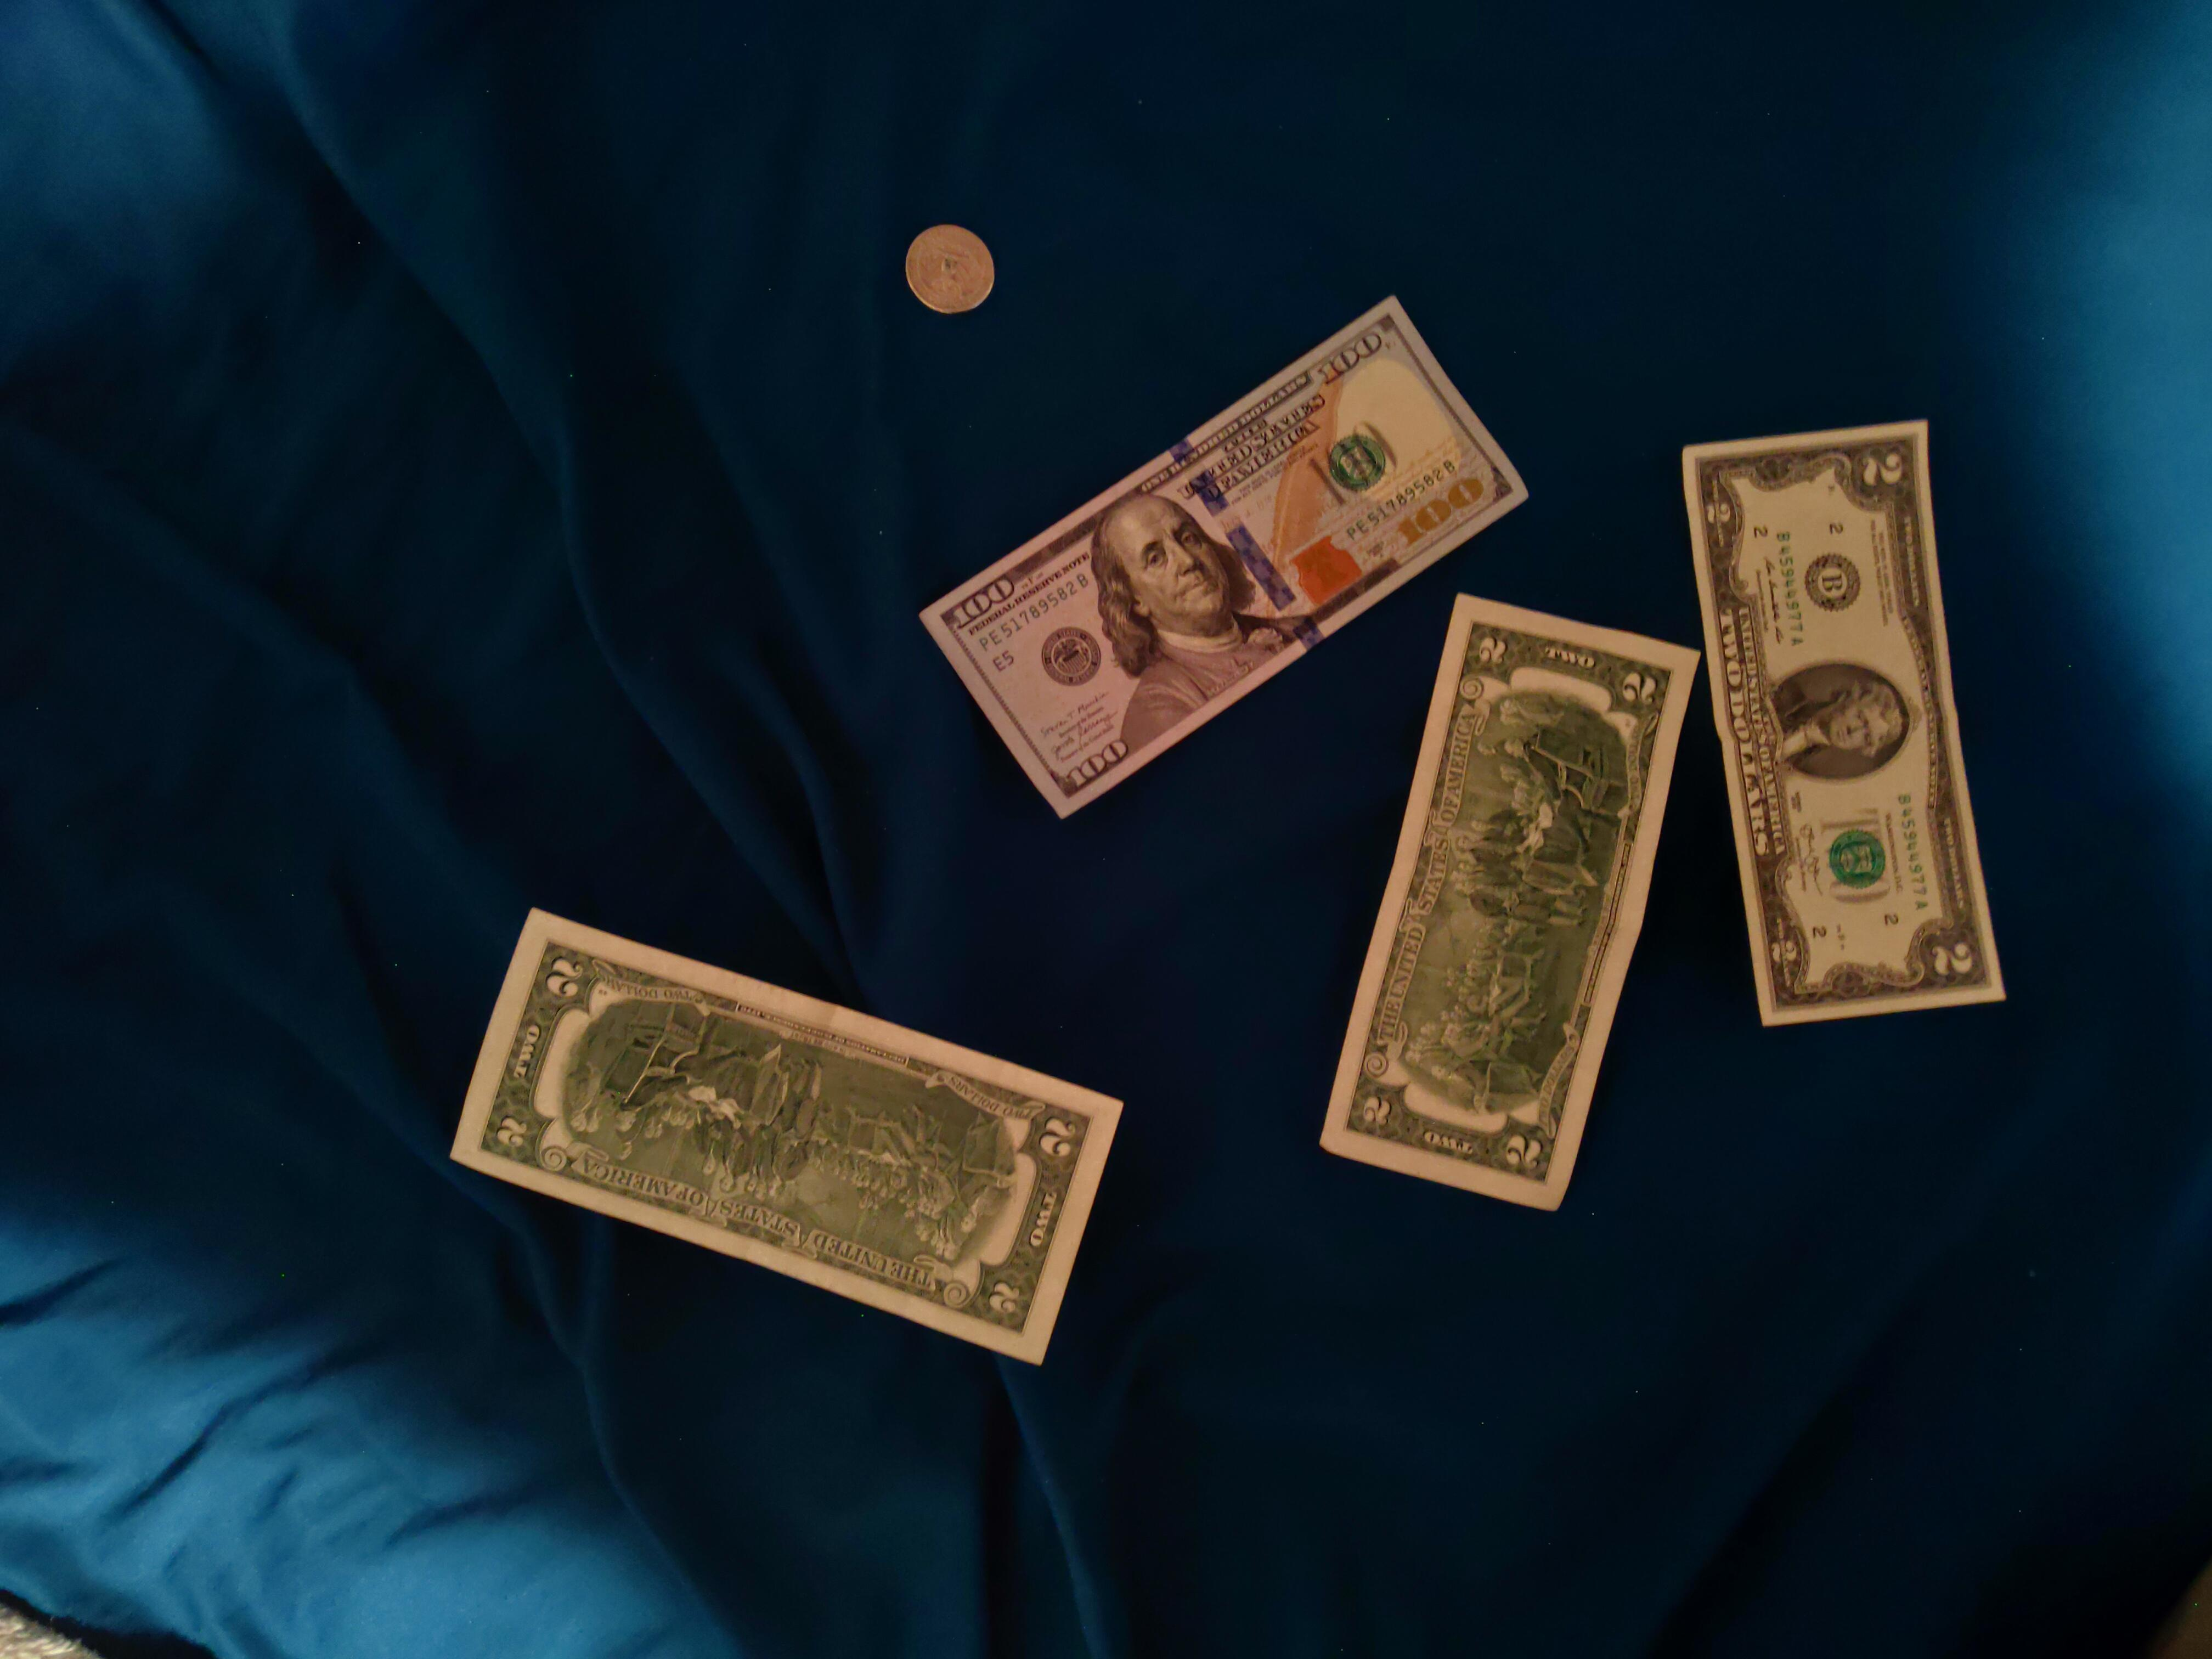HundredBill: (920, 291, 1529, 821)
Quarter: (902, 221, 995, 317)
TwoBill: (446, 906, 1125, 1368), (1322, 592, 1702, 1215), (1679, 416, 2008, 1030)
